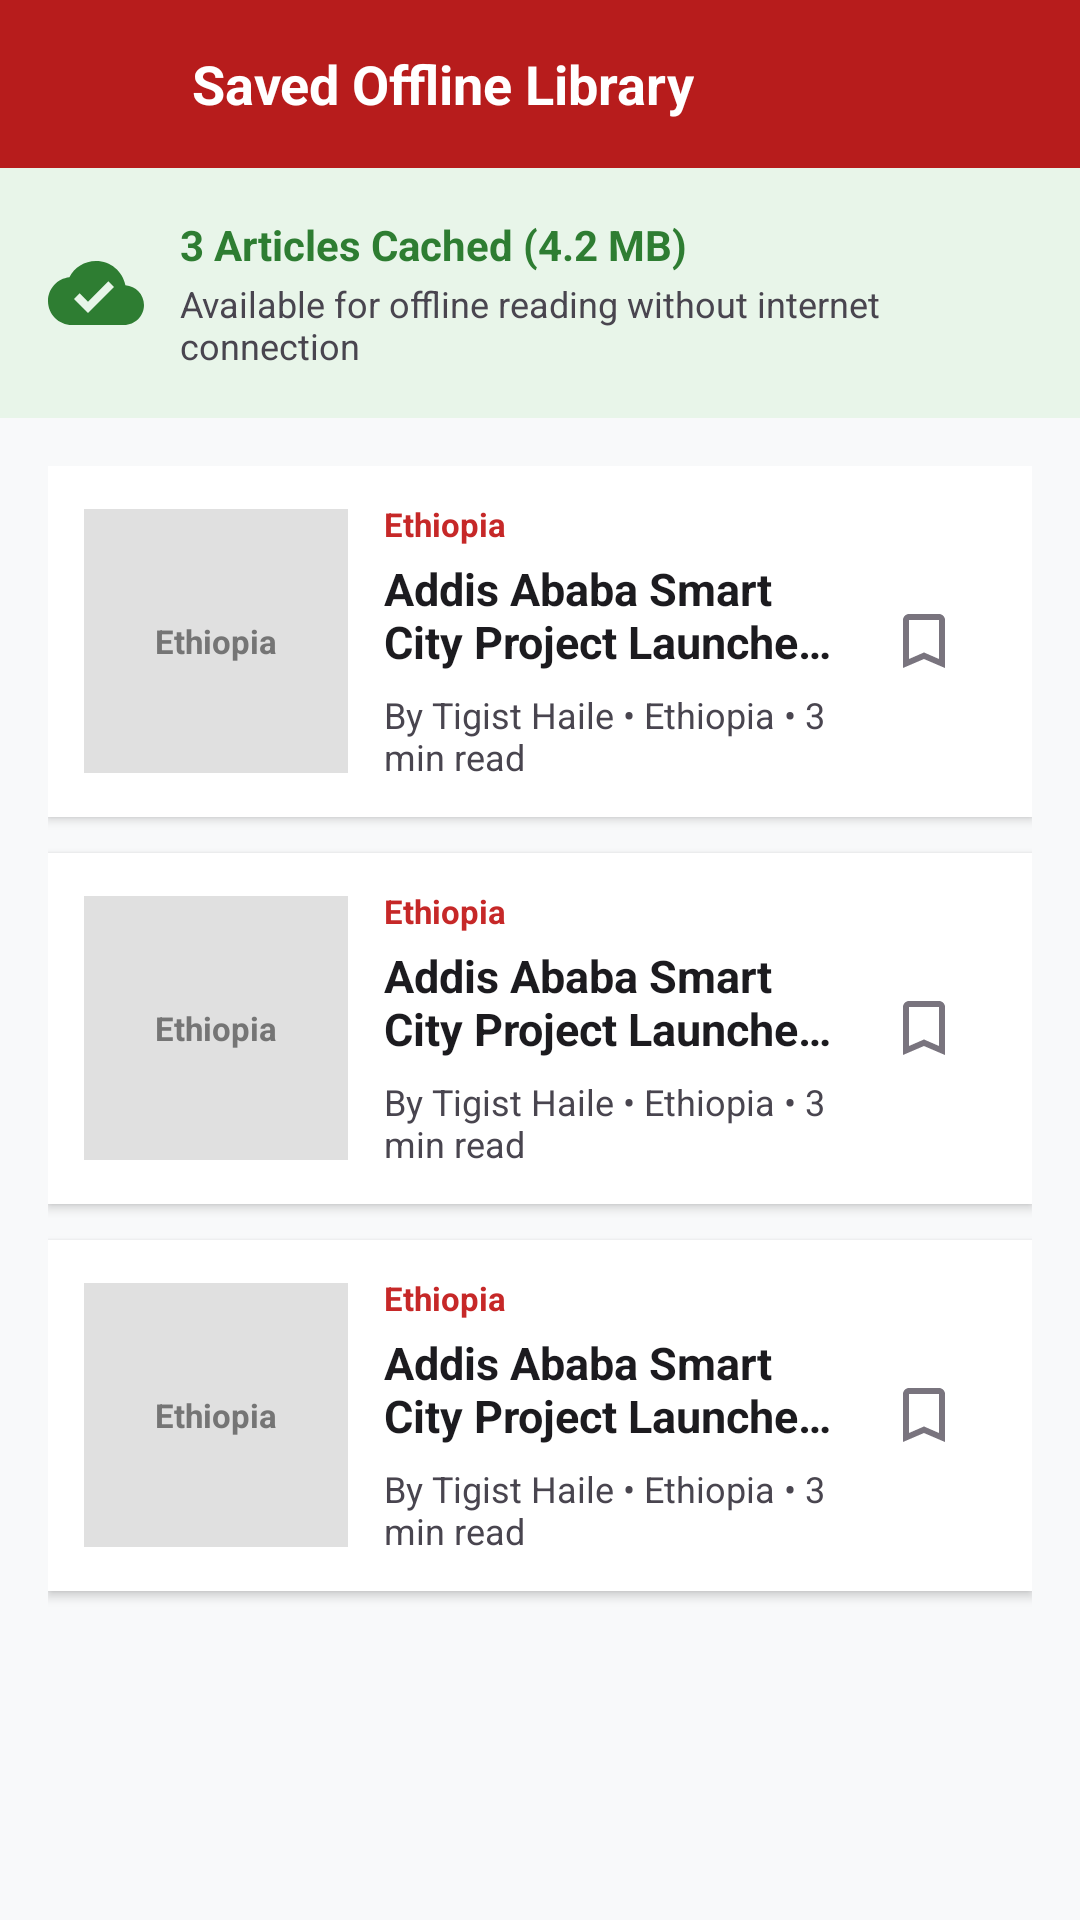

Point at icon controls on the screen. Image size 1080 × 1920, points as point (x, y).
Bookmark: point (924, 641), point (924, 1028), point (924, 1415)
Offline Sync Ready: point (96, 293)
